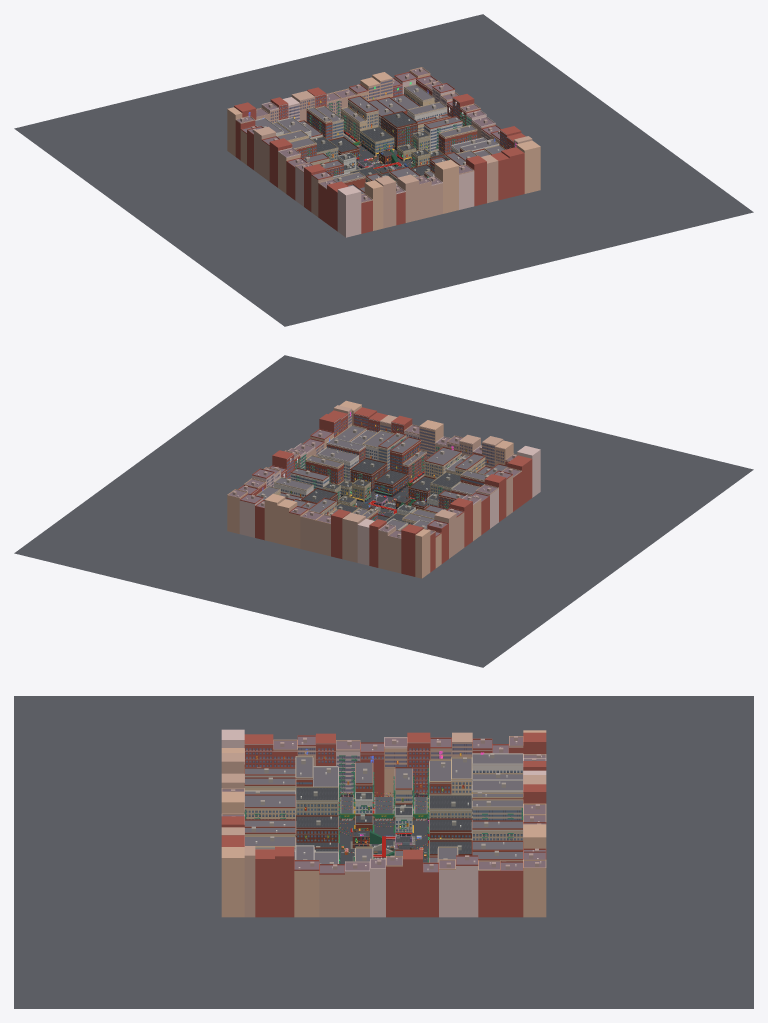
File: ichiban-gai.glb
The picture shows the model from 3 angles, top to bottom: view 1: azimuth 30°, elevation 25°; view 2: azimuth 150°, elevation 25°; view 3: azimuth 270°, elevation 25°; orthographic projection. The views are drawn at different scales.
Visible parts, largest first — view 1: fundo, arena-pele, arena-estatica; view 2: fundo, arena-pele, arena-estatica; view 3: fundo, arena-pele, arena-estatica.
Boxes of the visible parts, x1,y1,x2,y2 form: fundo: (14, 14, 753, 326); arena-pele: (311, 111, 450, 181); arena-estatica: (317, 117, 430, 173); fundo: (14, 355, 753, 667); arena-pele: (301, 458, 460, 522); arena-estatica: (302, 464, 451, 515); fundo: (14, 696, 753, 1008); arena-pele: (295, 786, 472, 860); arena-estatica: (296, 800, 471, 863).
Bounding box in the file's own units: 520 × 48.9 × 520.
Materials: 73 (14 with a texture image).
